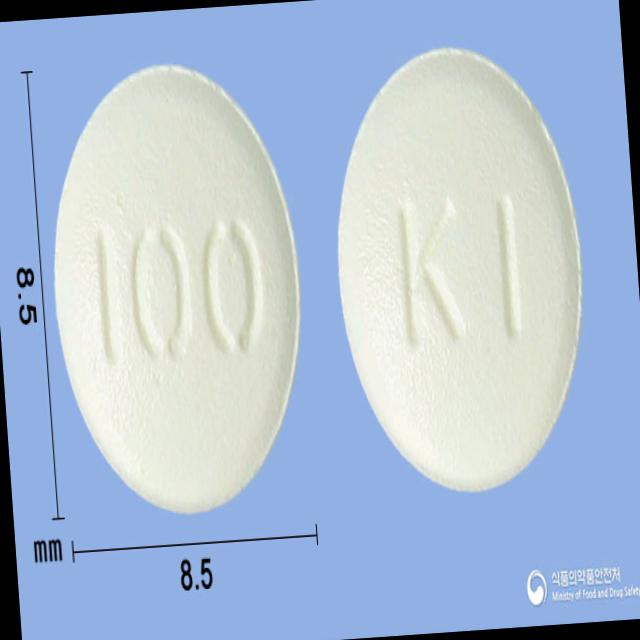Levogun - 500mg: (322, 35, 598, 498), (41, 55, 313, 521)
